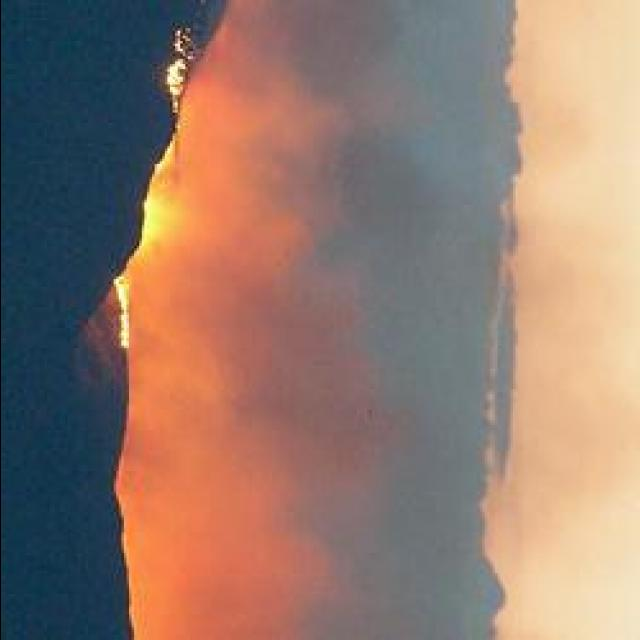fire: (132, 132, 188, 318)
smoke: (208, 81, 374, 286), (204, 364, 378, 491), (132, 354, 215, 557), (198, 516, 330, 636)
